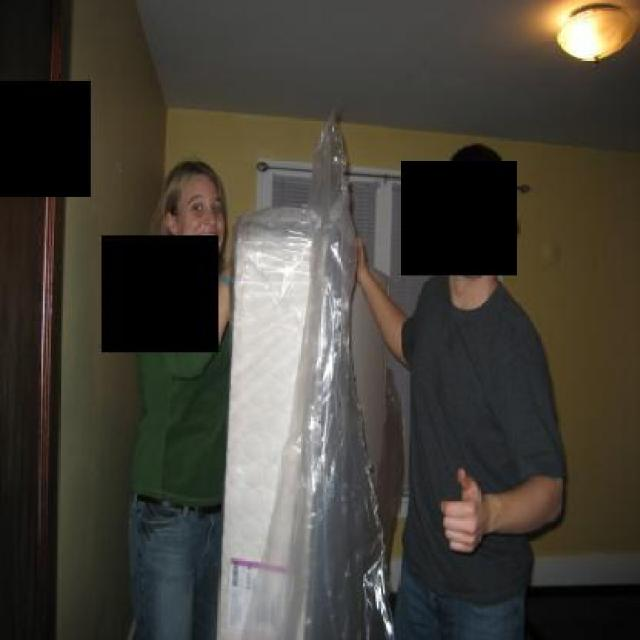plastic bag: (214, 101, 398, 638)
